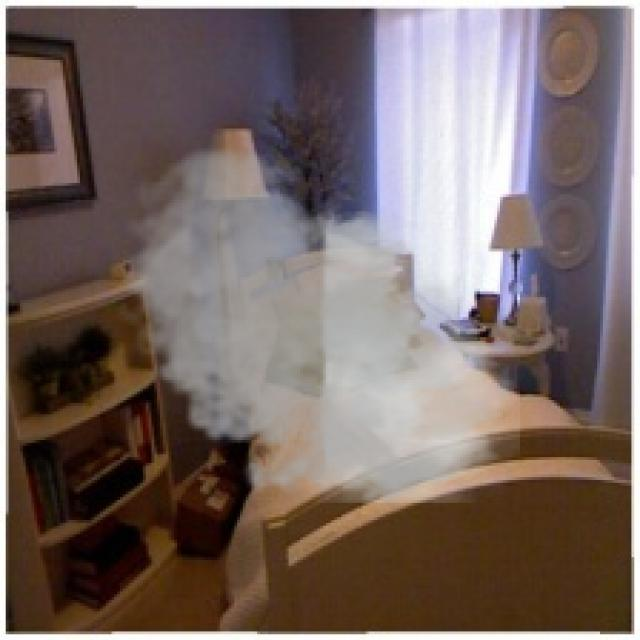smoke: (106, 140, 520, 517)
